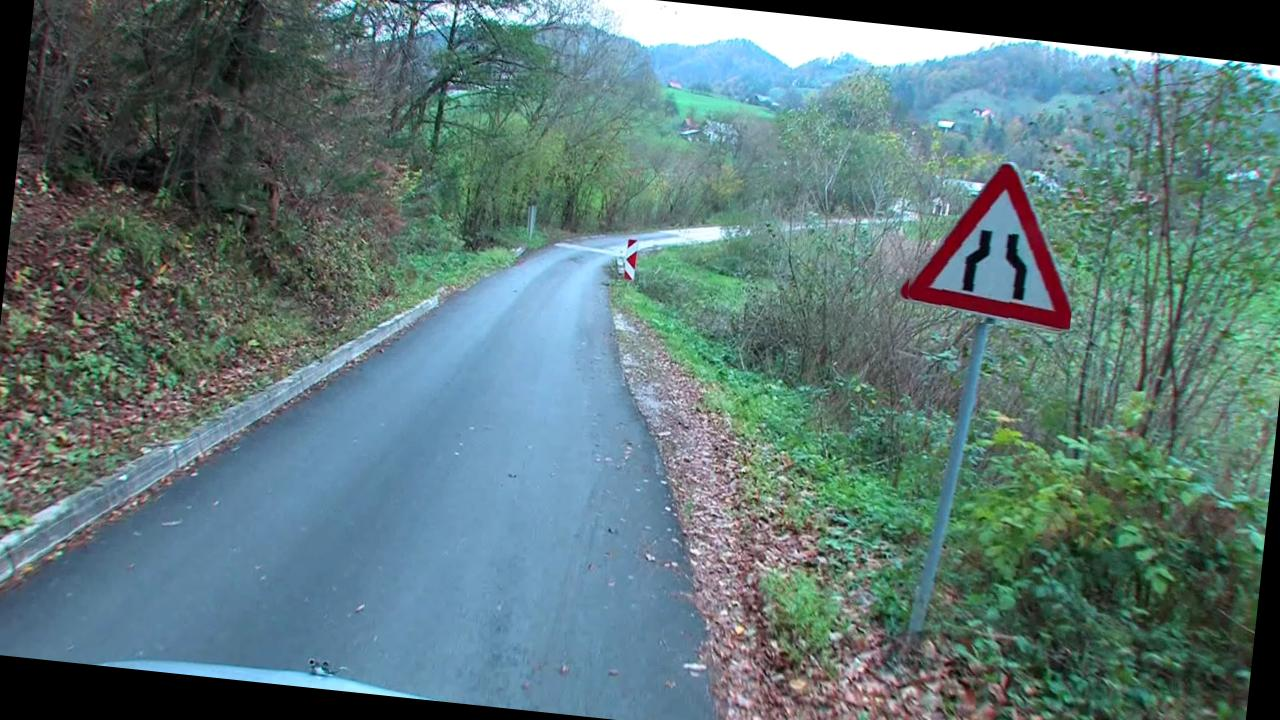Triangle: (898, 151, 1086, 333)
